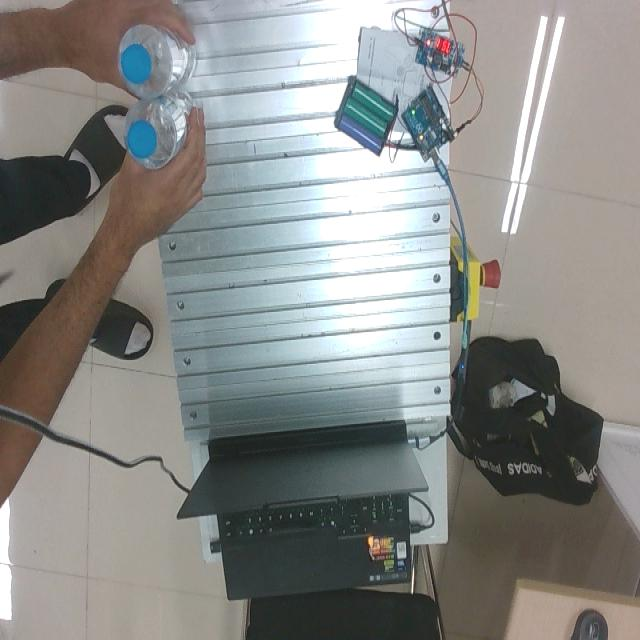lavie: (118, 24, 198, 101), (125, 90, 195, 170)
